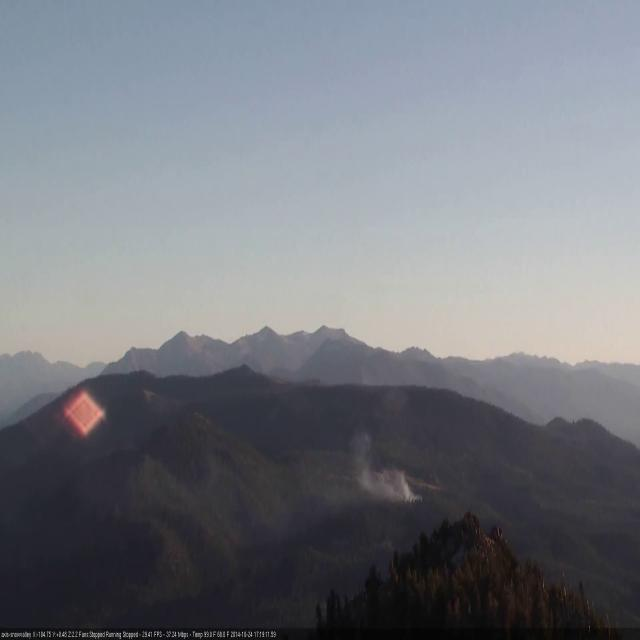smoke: (340, 418, 429, 510)
